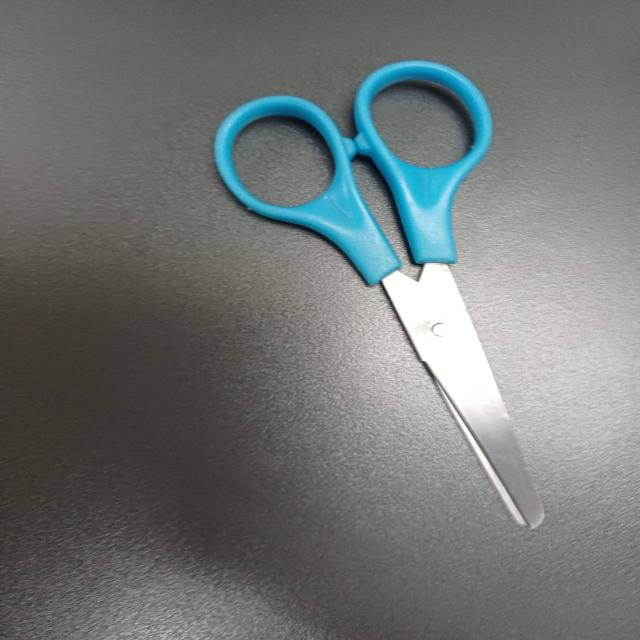scissors: (202, 51, 564, 538)
